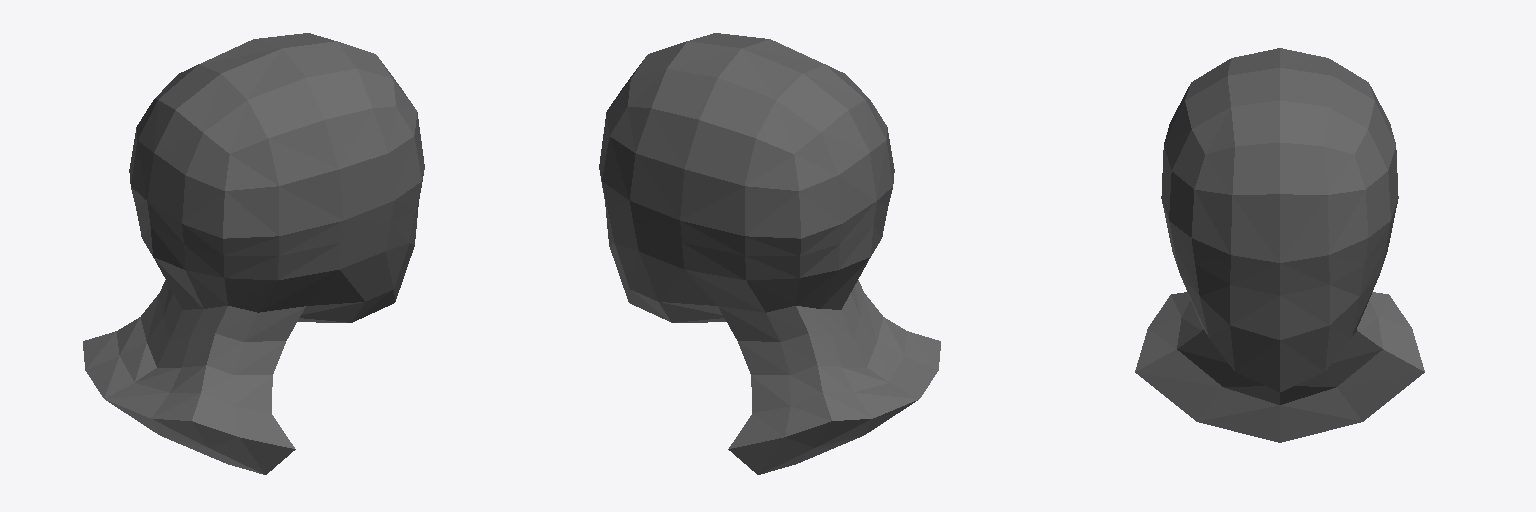
File: head.obj
3 renders of one model, left to right at view 1: azimuth 30°, elevation 25°; view 2: azimuth 150°, elevation 25°; view 3: azimuth 270°, elevation 25°, orthographic.
Parts seen in each view (by area): view 1: Cube; view 2: Cube; view 3: Cube.
Boxes of the visible parts, x1=… form: Cube: x1=83, y1=33, x2=424, y2=474; Cube: x1=599, y1=33, x2=940, y2=474; Cube: x1=1135, y1=48, x2=1424, y2=442.
Bounding box in the file's own units: 2.15 × 2.72 × 1.78.